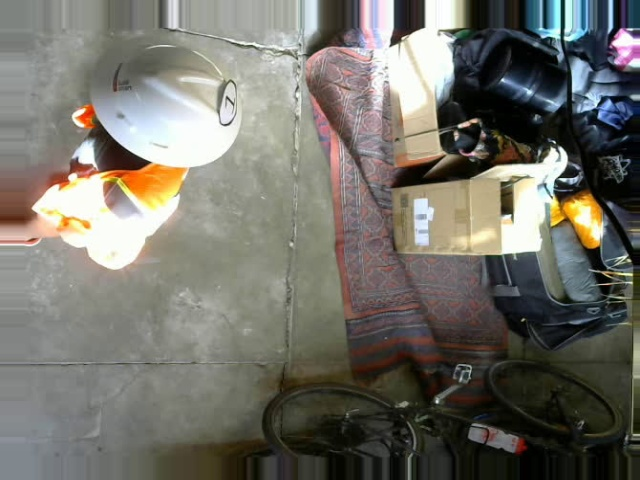one: (218, 80, 236, 124)
